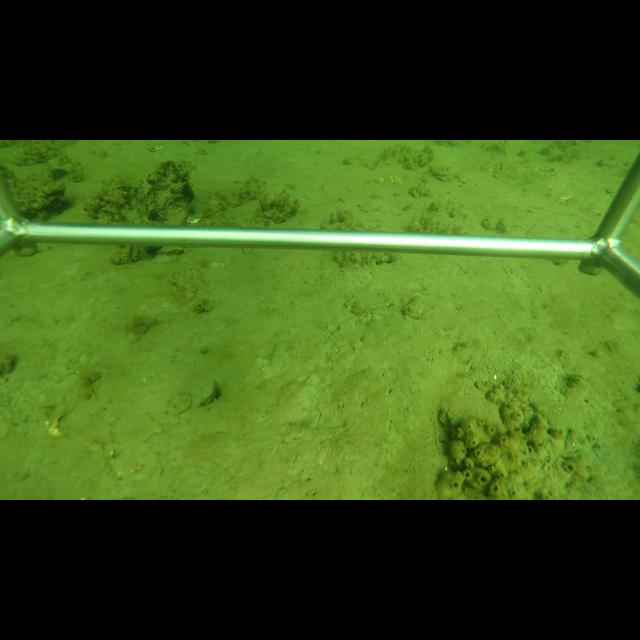Oyster-Closed: (199, 198, 262, 226), (200, 378, 219, 409)
